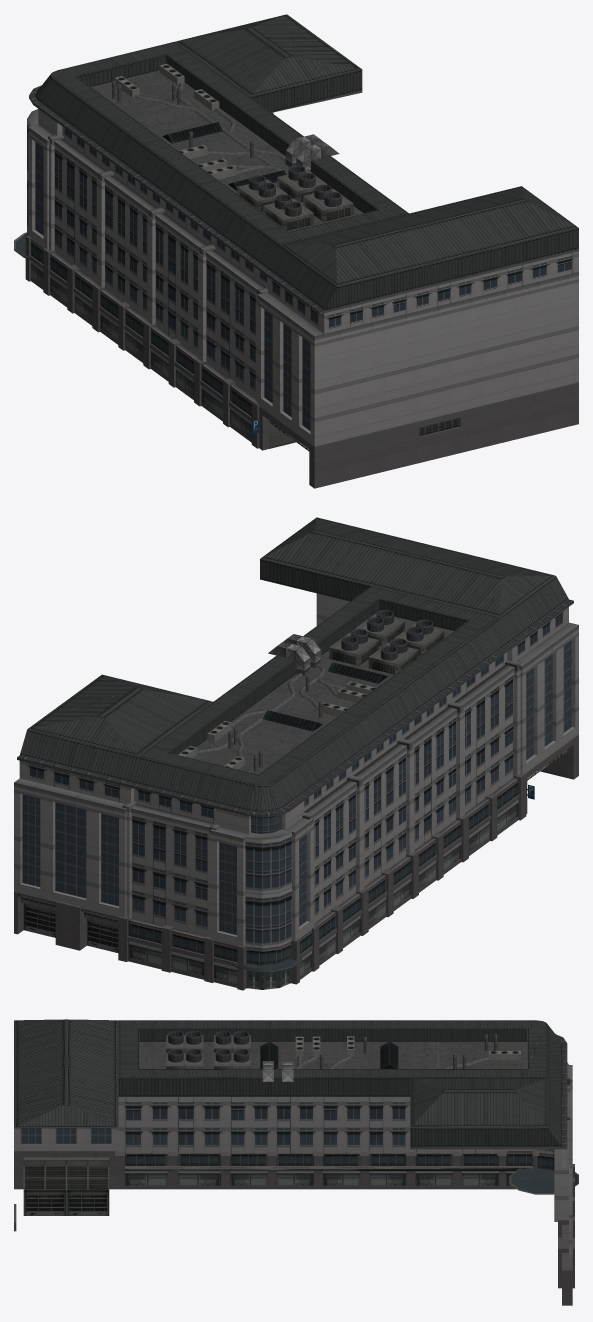
Rendered from edificio_02.glb.
3 renders of one model, top to bottom at view 1: azimuth 30°, elevation 25°; view 2: azimuth 150°, elevation 25°; view 3: azimuth 270°, elevation 25°, orthographic. The views are drawn at different scales.
Parts seen in each view (by area): view 1: AIT01W2W4; view 2: AIT01W2W4; view 3: AIT01W2W4.
Boxes of the visible parts, left/top/right/bottom form: AIT01W2W4: left=14, top=14, right=578, bottom=488; AIT01W2W4: left=14, top=517, right=578, bottom=990; AIT01W2W4: left=14, top=1019, right=578, bottom=1305.
Bounding box in the file's own units: 33.04 × 24.28 × 64.71.
1 material, 1 textured.
